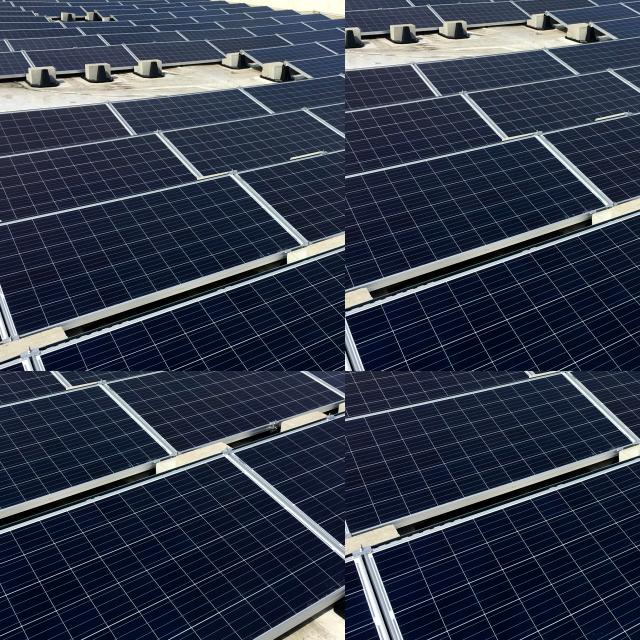bird: (345, 0, 398, 22)
crack: (345, 415, 640, 640), (345, 371, 640, 537), (559, 371, 640, 459), (500, 371, 640, 404), (439, 371, 603, 393), (345, 371, 477, 397)
dust: (123, 319, 200, 371), (0, 253, 33, 371), (0, 169, 33, 245), (0, 78, 25, 165)
hotspot: (0, 371, 22, 406)
